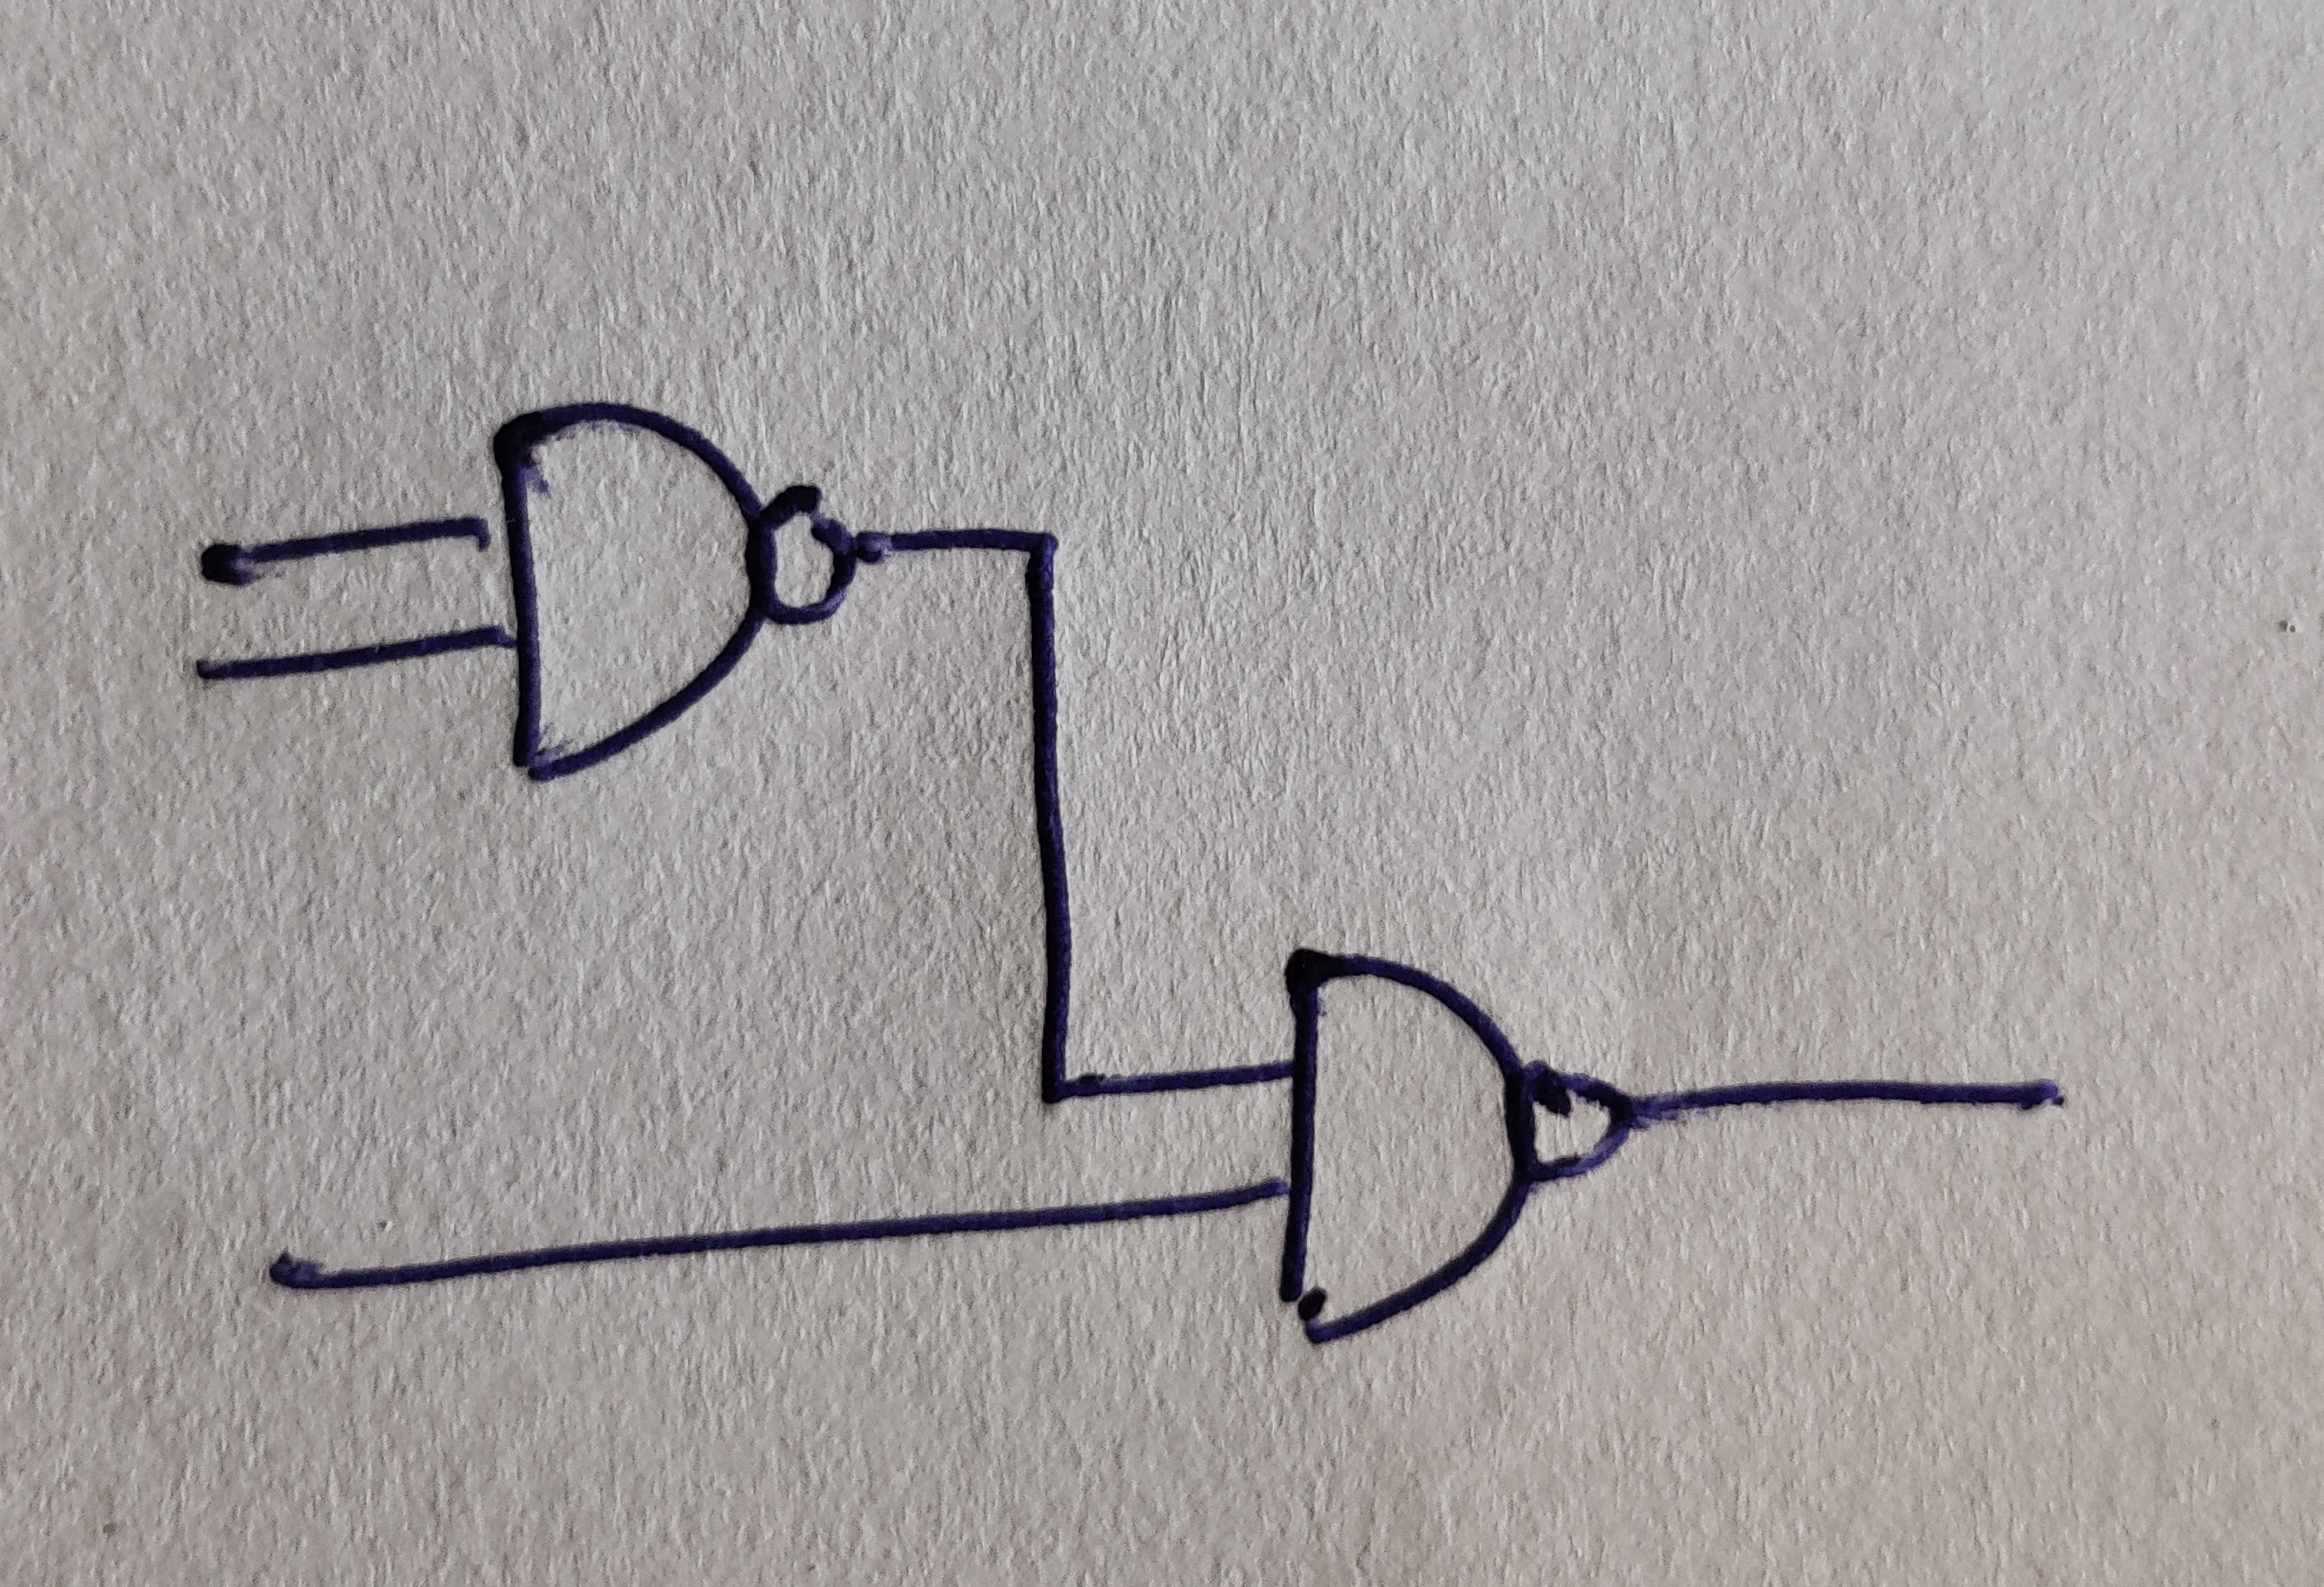and: (494, 402, 777, 782), (1279, 948, 1535, 1342)
not: (761, 485, 858, 627), (1524, 1061, 1632, 1179)
